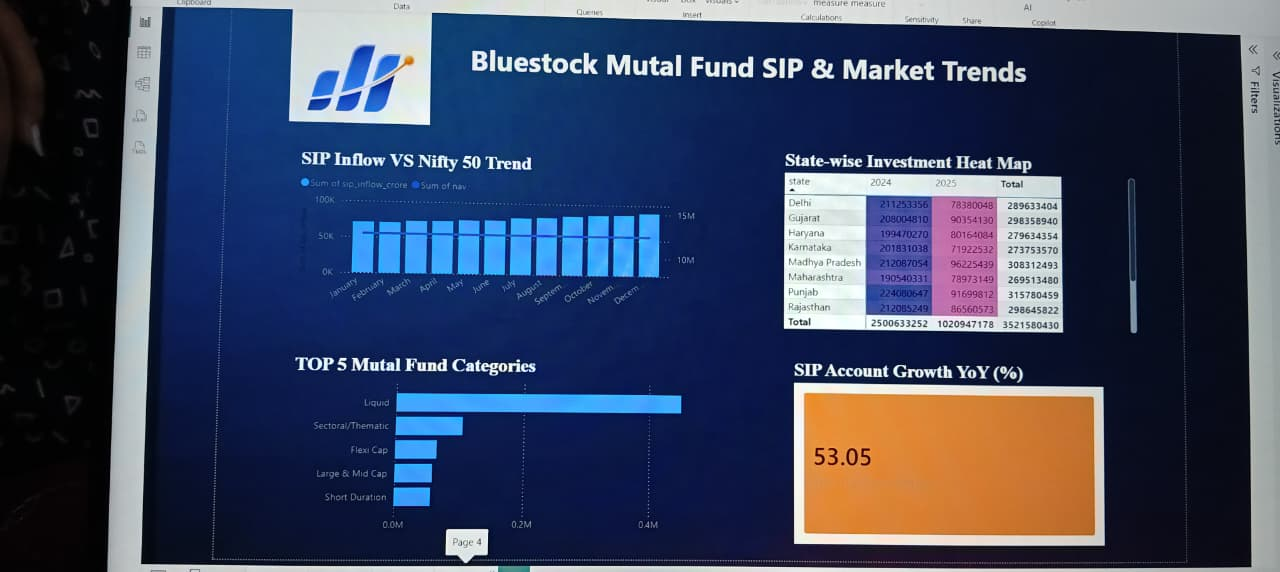

What the dashboard file says about the page in this screenshot:
{"tool":"powerbi","page":{"name":"Page 4","canvas":[1280,720],"ordinal":3},"visuals":[{"type":"textbox","box":[303.3,13.3,771.7,96.7],"z":0},{"type":"lineClusteredColumnComboChart","title":"SIP Inflow VS Nifty 50  Trend","fields":{"Category":["04_monthly_sip_inflows.month.Variation.Date Hierarchy.Month"],"Y":["Sum(04_monthly_sip_inflows.sip_inflow_crore)"],"Y2":["Sum(02_nav_history (2).nav)"]},"box":[91.7,185,548.3,235],"z":1000},{"type":"pivotTable","title":"State-wise Investment Heat  Map","fields":{"Rows":["08_investor_transactions.state"],"Values":["Sum(08_investor_transactions.amount_inr)"],"Columns":["08_investor_transactions.transaction_date.Variation.Date Hierarchy.Year","08_investor_transactions.transaction_date.Variation.Date Hierarchy.Quarter","08_investor_transactions.transaction_date.Variation.Date Hierarchy.Month","08_investor_transactions.transaction_date.Variation.Date Hierarchy.Day"]},"box":[733.3,173.3,486.7,246.7],"z":2000},{"type":"clusteredBarChart","title":"TOP 5 Mutal Fund Categories","fields":{"Category":["05_category_inflows.category"],"Y":["Sum(05_category_inflows.net_inflow_crore)"]},"box":[91.7,455,568.3,248.3],"z":3000},{"type":"cardVisual","title":"SIP Account Growth YoY  (%)","fields":{"Data":["Max(04_monthly_sip_inflows.yoy_growth_pct)"]},"box":[746.7,456.7,425,246.7],"z":4000},{"type":"image","box":[38.3,0,265,150],"z":5000}]}

Visuals, with their boxes on the page's 1280x720 design canvas (x1, y1, x2, y2). These are canvas units, not pixel positions in the 1280x572 screenshot, which may show the page scaled, cropped or inside an application window:
textbox: locate(303, 13, 1075, 110)
"SIP Inflow VS Nifty 50  Trend" lineClusteredColumnComboChart: locate(92, 185, 640, 420)
"State-wise Investment Heat  Map" pivotTable: locate(733, 173, 1220, 420)
"TOP 5 Mutal Fund Categories" clusteredBarChart: locate(92, 455, 660, 703)
"SIP Account Growth YoY  (%)" cardVisual: locate(747, 457, 1172, 703)
image: locate(38, 0, 303, 150)
